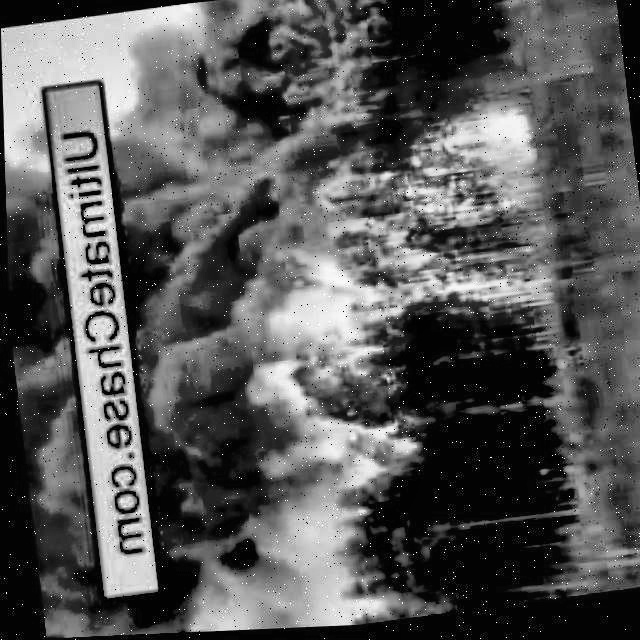Fire: (279, 223, 561, 349), (419, 95, 533, 191), (321, 412, 411, 479)
Smoke: (235, 97, 571, 489), (98, 5, 287, 637), (3, 146, 102, 640)
